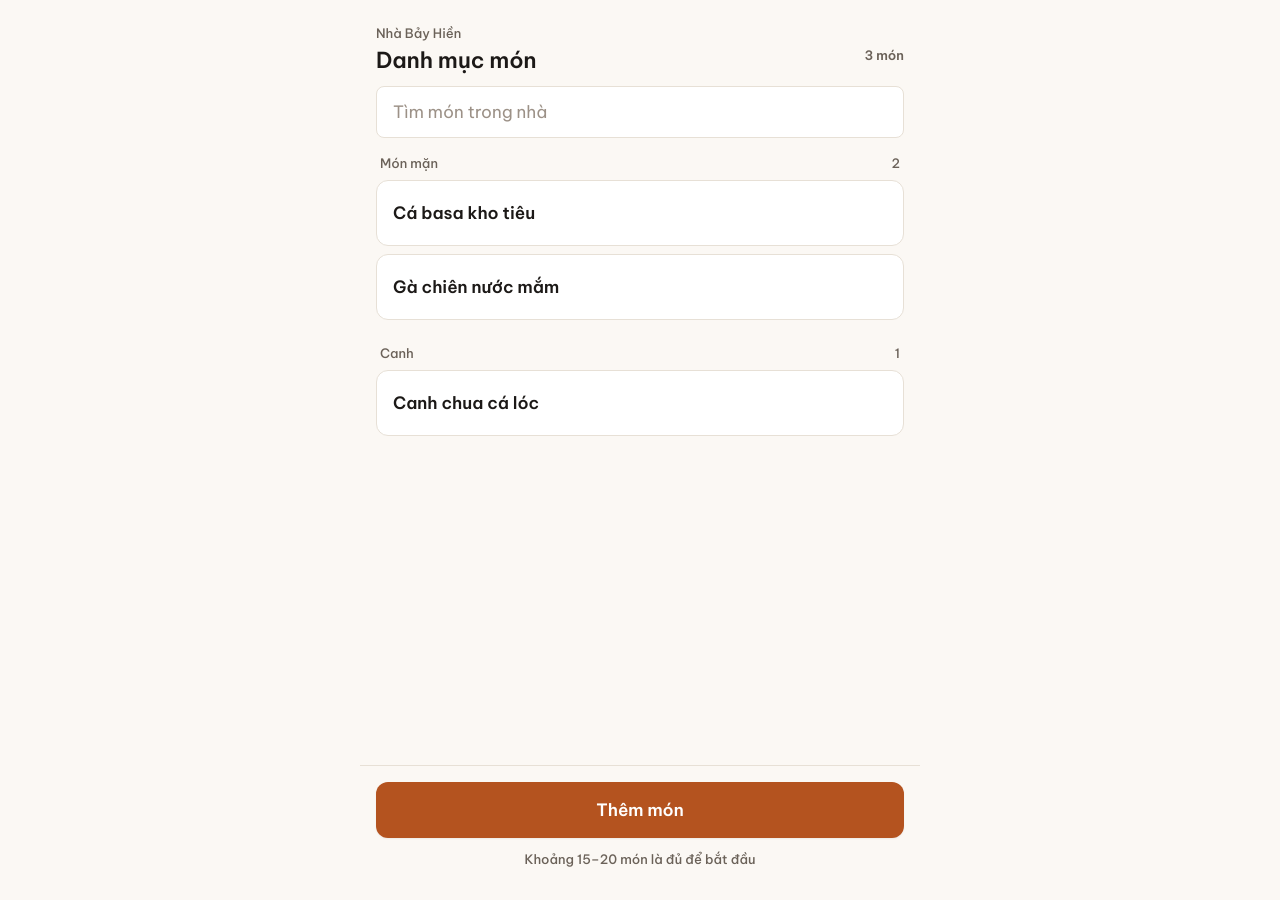
Test case: DishCatalogScreen (S-05) › action trả về reusedDishName thì toast hiện "Dùng lại ... — đã có trong danh mục."
The width and height of the screenshot is (1280, 900).
Click the button "Thêm món": (640, 810) [376, 782, 904, 838]
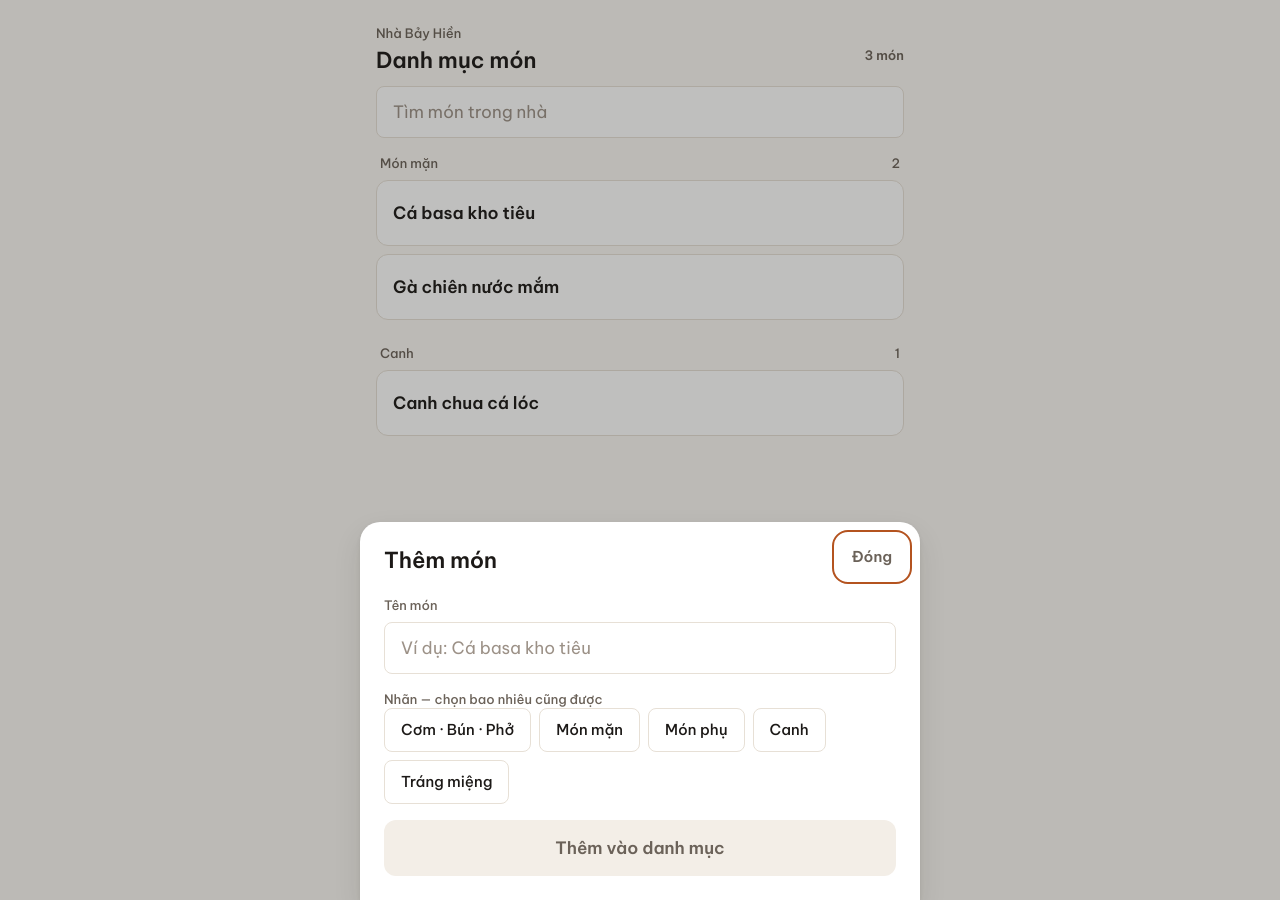
Click the button "Thêm vào danh mục": (640, 848) [384, 820, 896, 876]
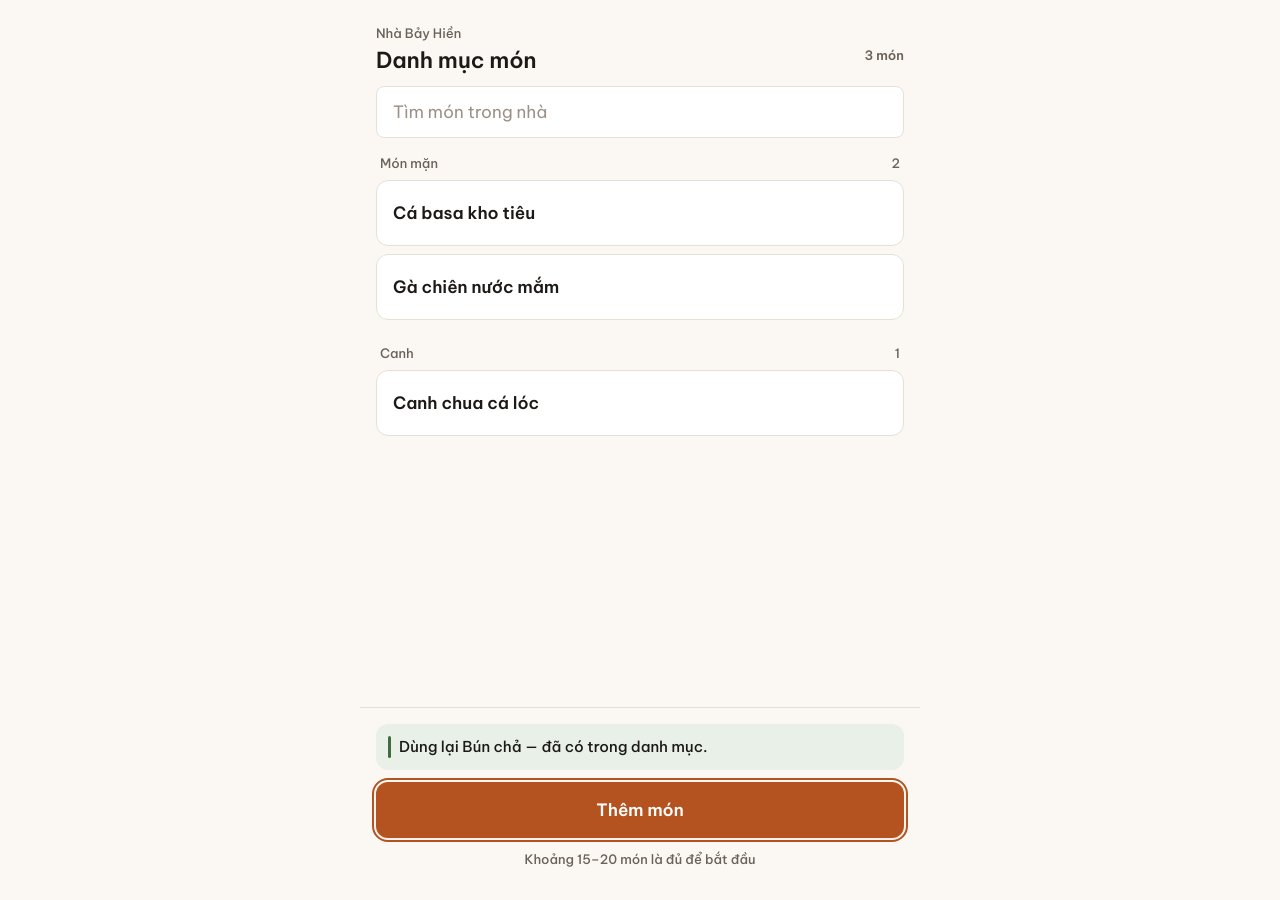
Check: the message "Dùng lại Bún chả — đã có trong danh mục." is shown, box [376, 724, 904, 770]
Check: the text "Dùng lại Bún chả — đã có trong danh mục." is shown, box [399, 736, 708, 758]
